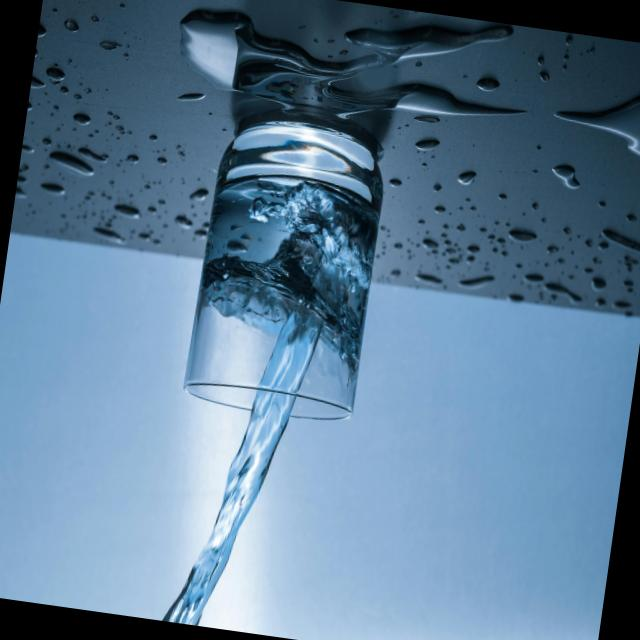glass: (159, 72, 416, 442)
